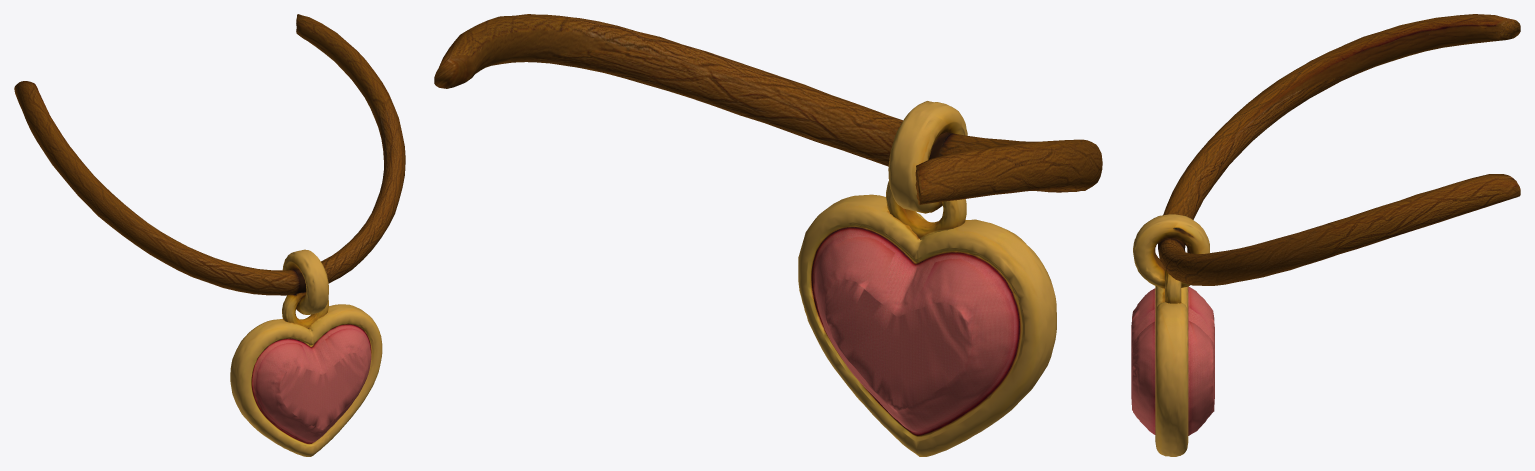
Rendered from mem_ac_heartnecklace.fbx.
3 renders of one model, left to right at view 1: azimuth 30°, elevation 25°; view 2: azimuth 150°, elevation 25°; view 3: azimuth 270°, elevation 25°, orthographic. The views are drawn at different scales.
Parts seen in each view (by area): view 1: tripo_node_17947ad9-7d99-425d-97c1-1edc97e8b4b4; view 2: tripo_node_17947ad9-7d99-425d-97c1-1edc97e8b4b4; view 3: tripo_node_17947ad9-7d99-425d-97c1-1edc97e8b4b4.
Part boxes in pixels (x1=…): tripo_node_17947ad9-7d99-425d-97c1-1edc97e8b4b4: x1=14, y1=14, x2=405, y2=456; tripo_node_17947ad9-7d99-425d-97c1-1edc97e8b4b4: x1=434, y1=14, x2=1102, y2=456; tripo_node_17947ad9-7d99-425d-97c1-1edc97e8b4b4: x1=1131, y1=14, x2=1520, y2=456.
Bounding box in the file's own units: 0.998 × 0.8965 × 0.8809.
1 material, 1 textured.
